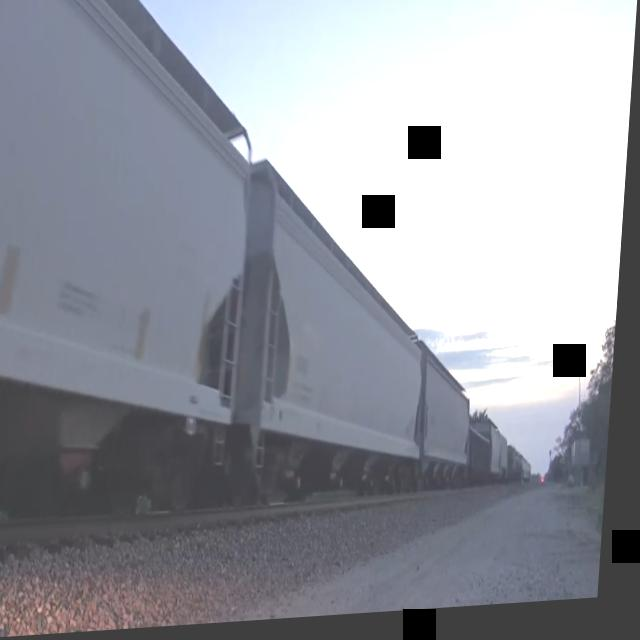hopper: (0, 0, 279, 533), (237, 131, 448, 526)
